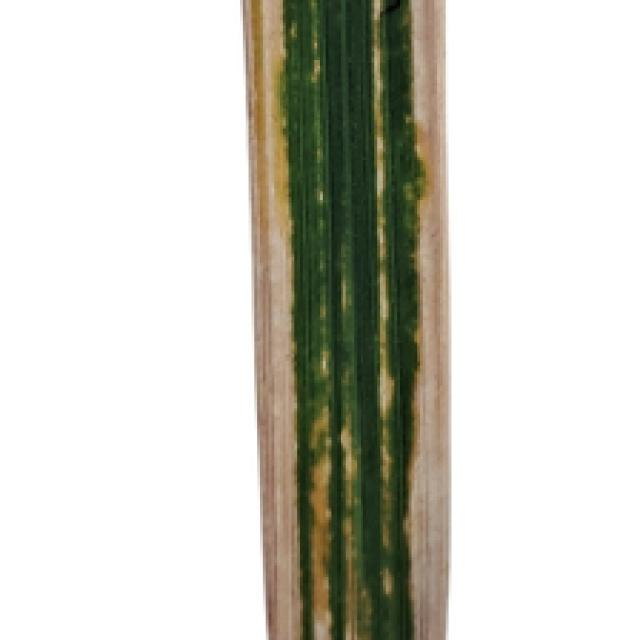Rice___Bacterial_Leaf_Blight: (241, 0, 452, 637)
